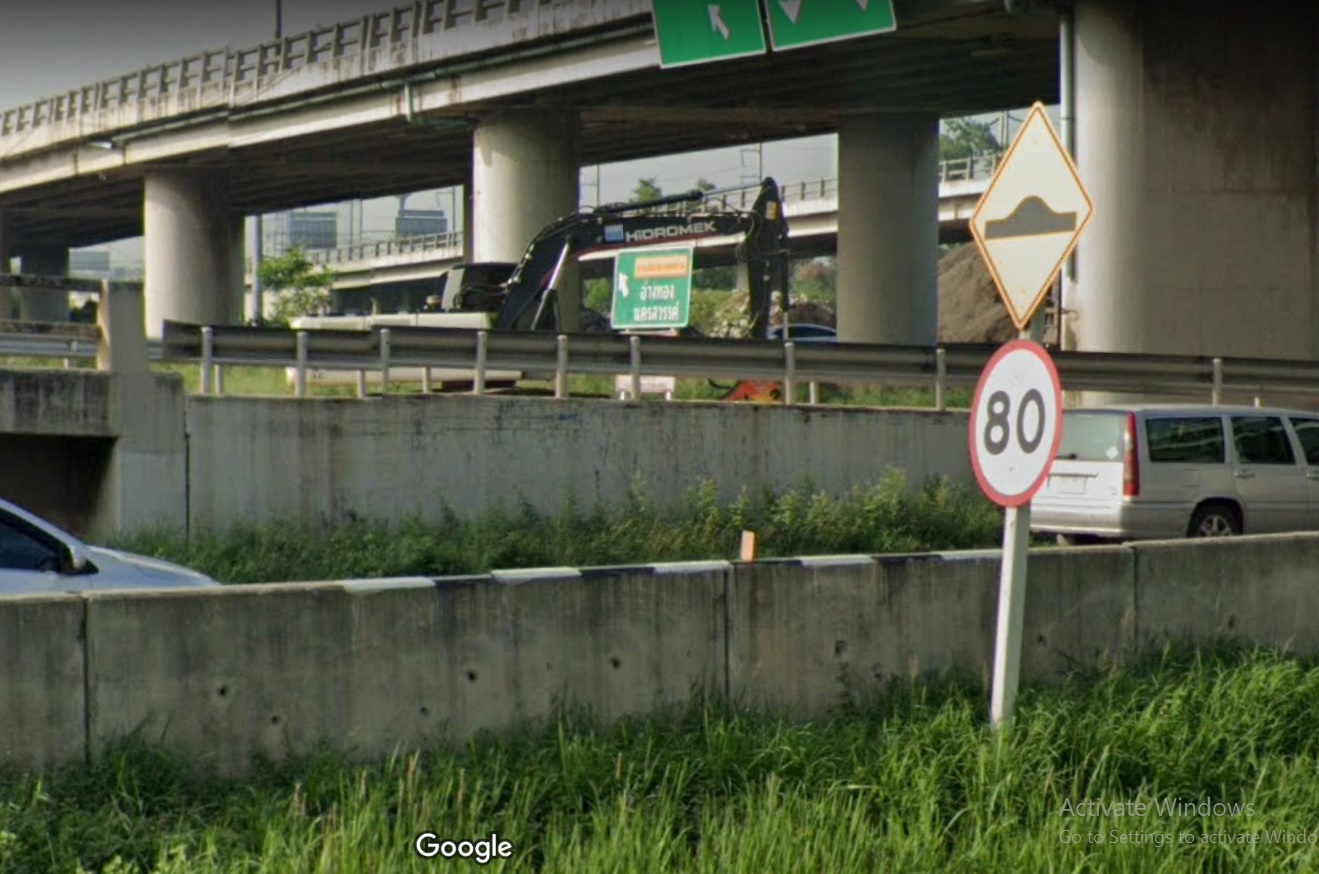80KPH: (963, 330, 1072, 520)
